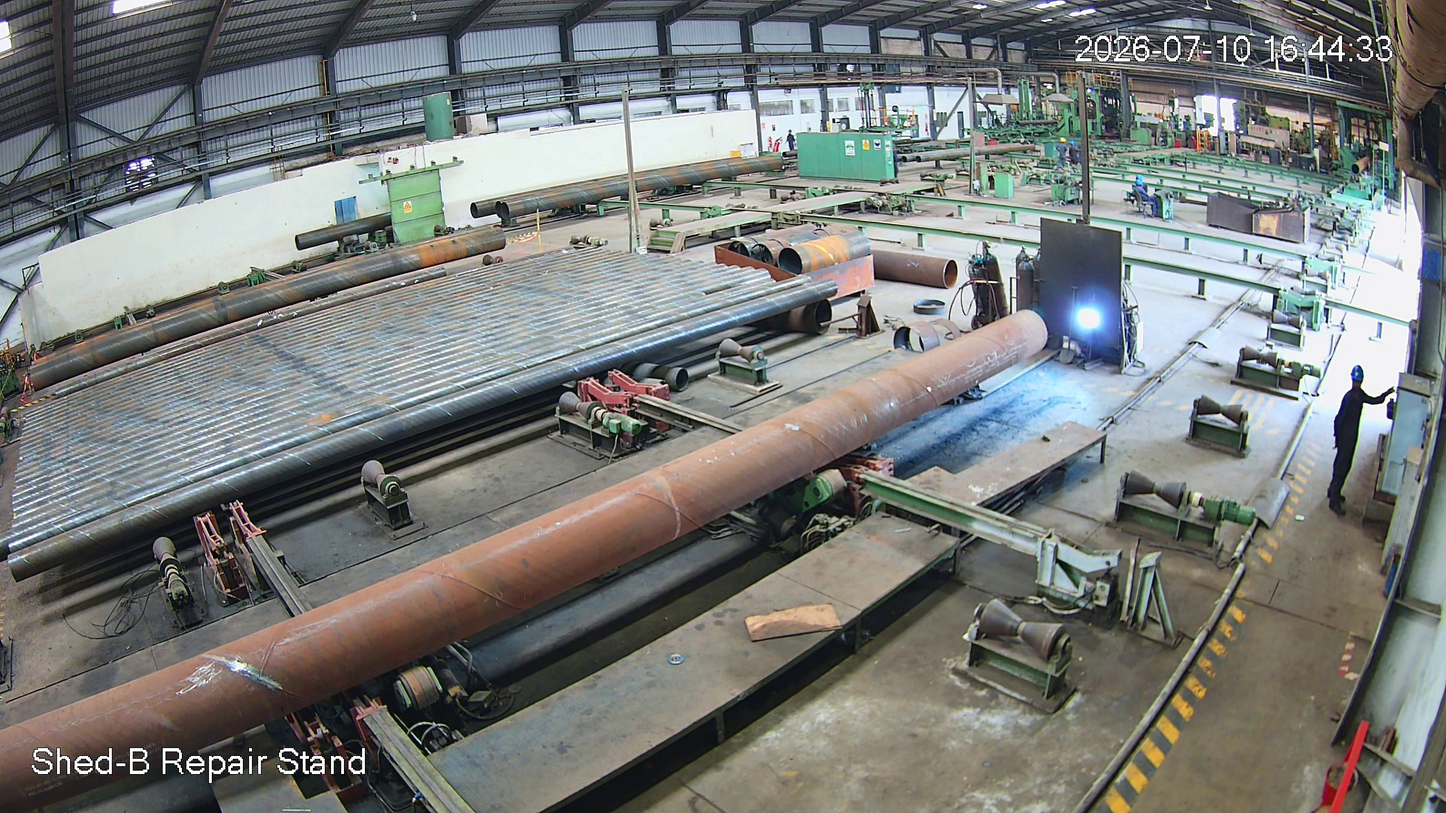Helmet: (1344, 357, 1377, 401)
Person: (1323, 364, 1374, 531)
